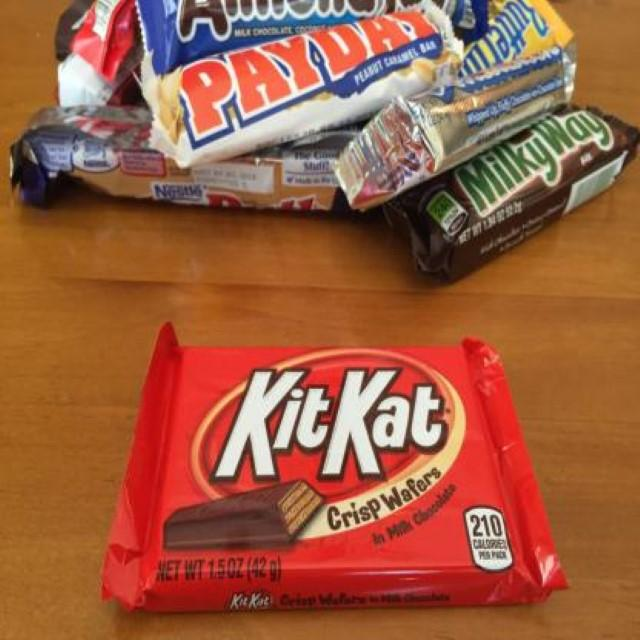kitkat_chocolate: (143, 338, 507, 617)
